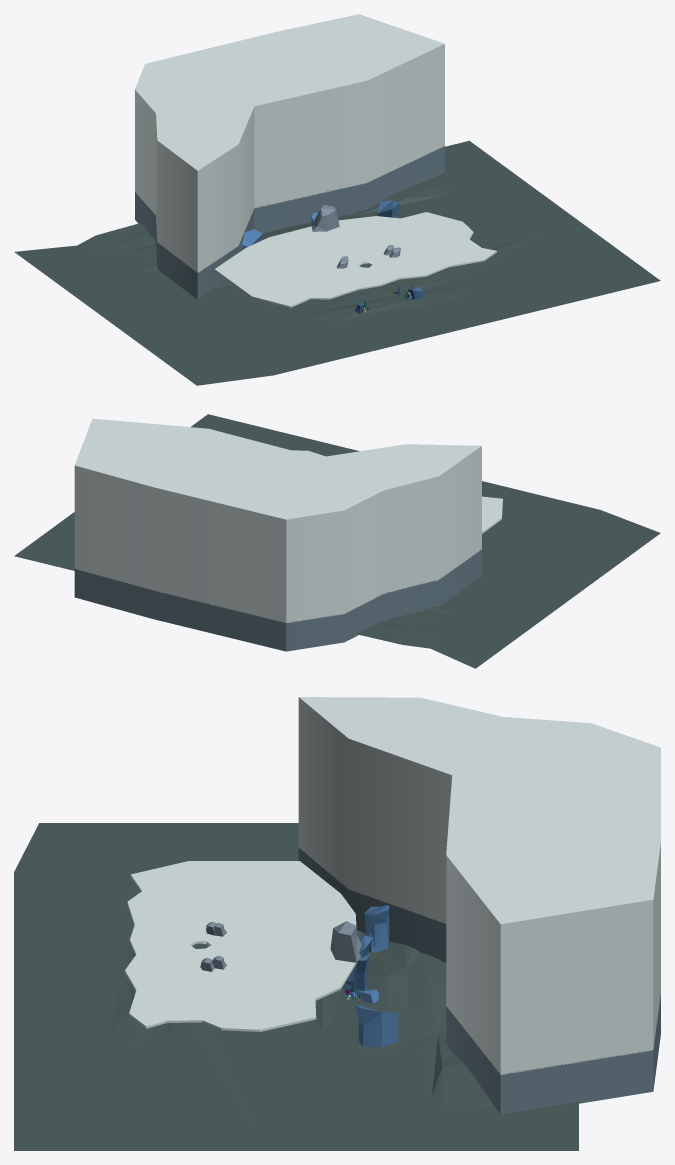
The model's file is FishingArea.fbx.
The picture shows the model from 3 angles, top to bottom: view 1: azimuth 30°, elevation 25°; view 2: azimuth 150°, elevation 25°; view 3: azimuth 270°, elevation 25°; orthographic projection. The views are drawn at different scales.
Visible parts, largest first — view 1: sand, BackBerg, iceflat, BackBerg1, polySurface128; view 2: BackBerg, sand, BackBerg1, iceflat; view 3: BackBerg, sand, iceflat, BackBerg1, polySurface125, polySurface128, polySurface88.
Part boxes in pixels (left/top/right/bottom): sand: left=14, top=140, right=660, bottom=385; BackBerg: left=135, top=14, right=444, bottom=272; iceflat: left=214, top=212, right=496, bottom=307; BackBerg1: left=135, top=146, right=444, bottom=299; polySurface128: left=311, top=205, right=339, bottom=231; BackBerg: left=74, top=418, right=481, bottom=623; sand: left=14, top=414, right=660, bottom=668; BackBerg1: left=74, top=549, right=481, bottom=651; iceflat: left=292, top=450, right=502, bottom=533; BackBerg: left=298, top=697, right=660, bottom=1074; sand: left=14, top=823, right=578, bottom=1150; iceflat: left=125, top=861, right=356, bottom=1031; BackBerg1: left=298, top=848, right=660, bottom=1114; polySurface125: left=354, top=1004, right=398, bottom=1046; polySurface128: left=330, top=921, right=361, bottom=962; polySurface88: left=364, top=905, right=389, bottom=951.
Bounding box in the file's own units: 13982 × 4407 × 11663.
